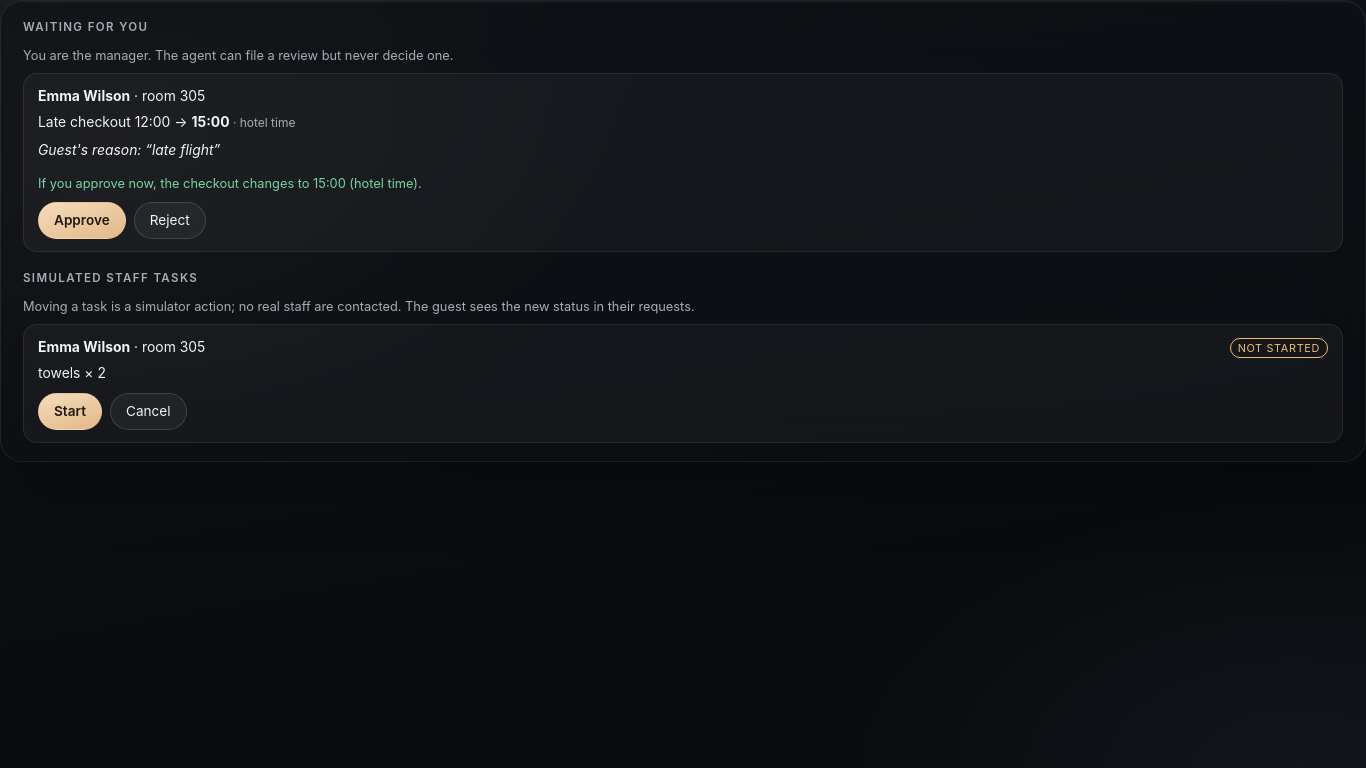
Test: Manager tab › approves with the queue version, no credential, and shows intent apart from the result
Expected: the list item with test id "operator-item" shows "Emma Wilson", [38,88,130,104]
Expected: the list item with test id "operator-item" shows "Late checkout 12:00 → 15:00", [23,74,1343,252]
Click the button "Approve" at (82, 220), box [38,202,126,239]
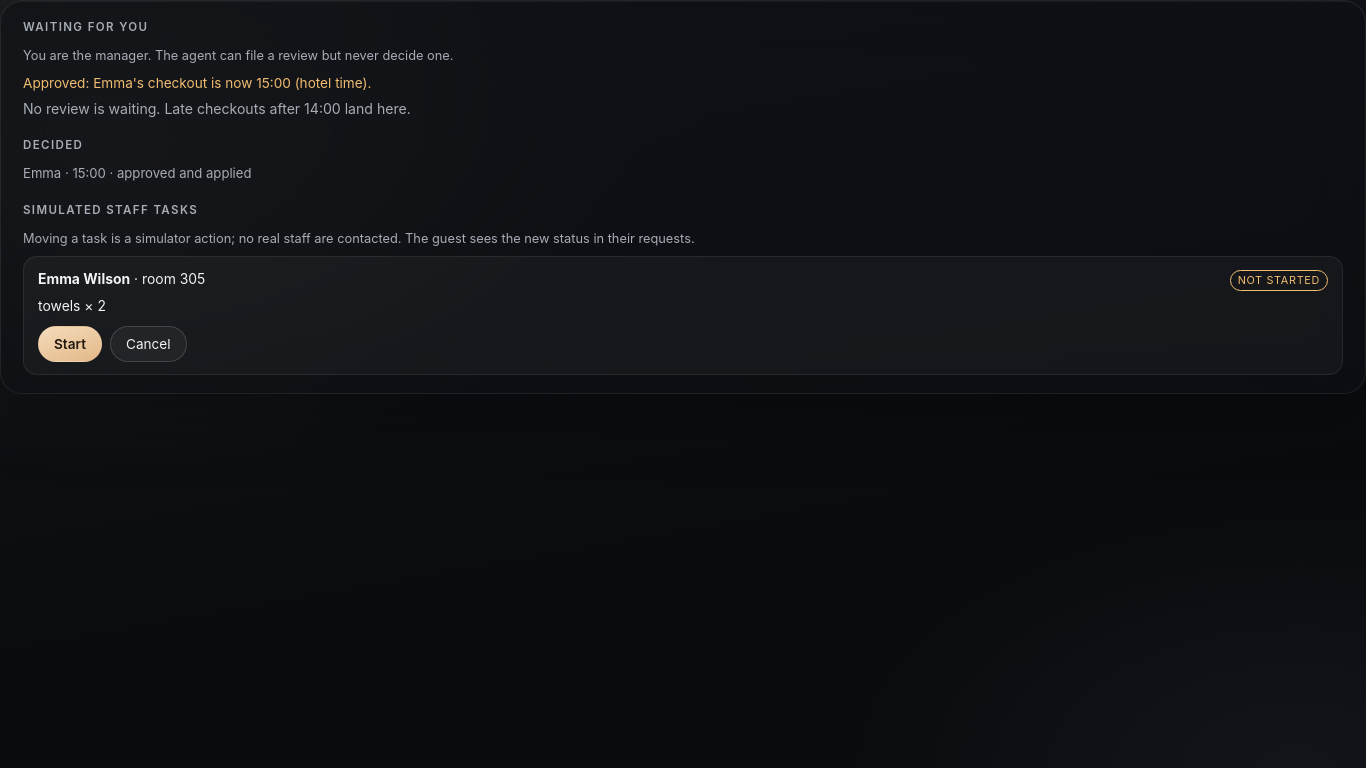
Now the message with test id "operator-result" reads "Approved: Emma's checkout is now 15:00 (hotel time).", box [23,76,371,92]
Now the list item with test id "decided-item" shows "approved and applied", box [117,165,252,181]
